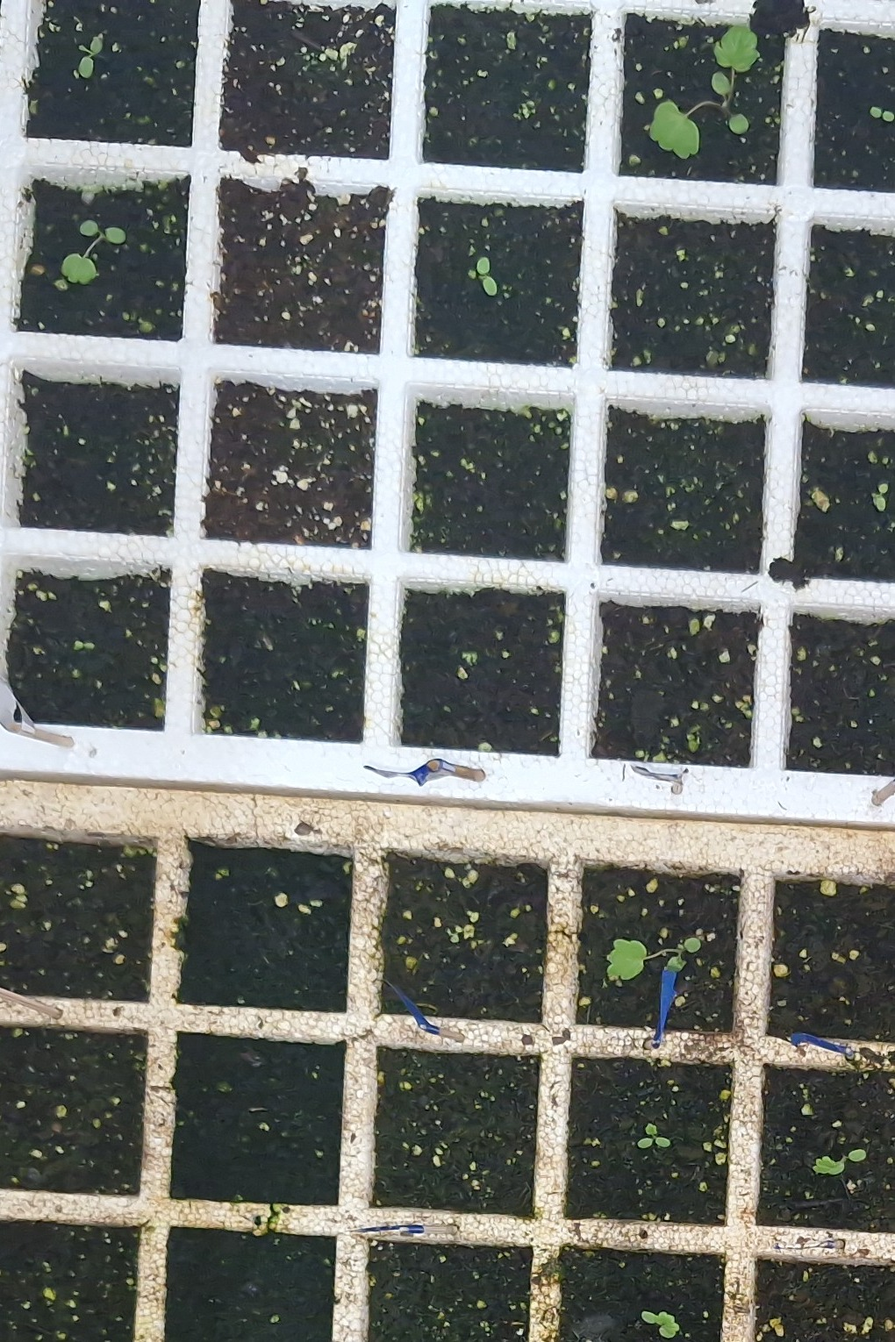Folha: (608, 939, 647, 980), (813, 1156, 845, 1174), (658, 1311, 679, 1336), (666, 956, 687, 972), (684, 938, 701, 952), (849, 1150, 867, 1162), (660, 1326, 676, 1338), (642, 1312, 657, 1323), (638, 1138, 653, 1148), (656, 1137, 670, 1147), (646, 1124, 657, 1134)
Germinacao: (608, 937, 700, 979), (813, 1149, 866, 1175), (643, 1311, 681, 1338), (638, 1123, 671, 1149)
